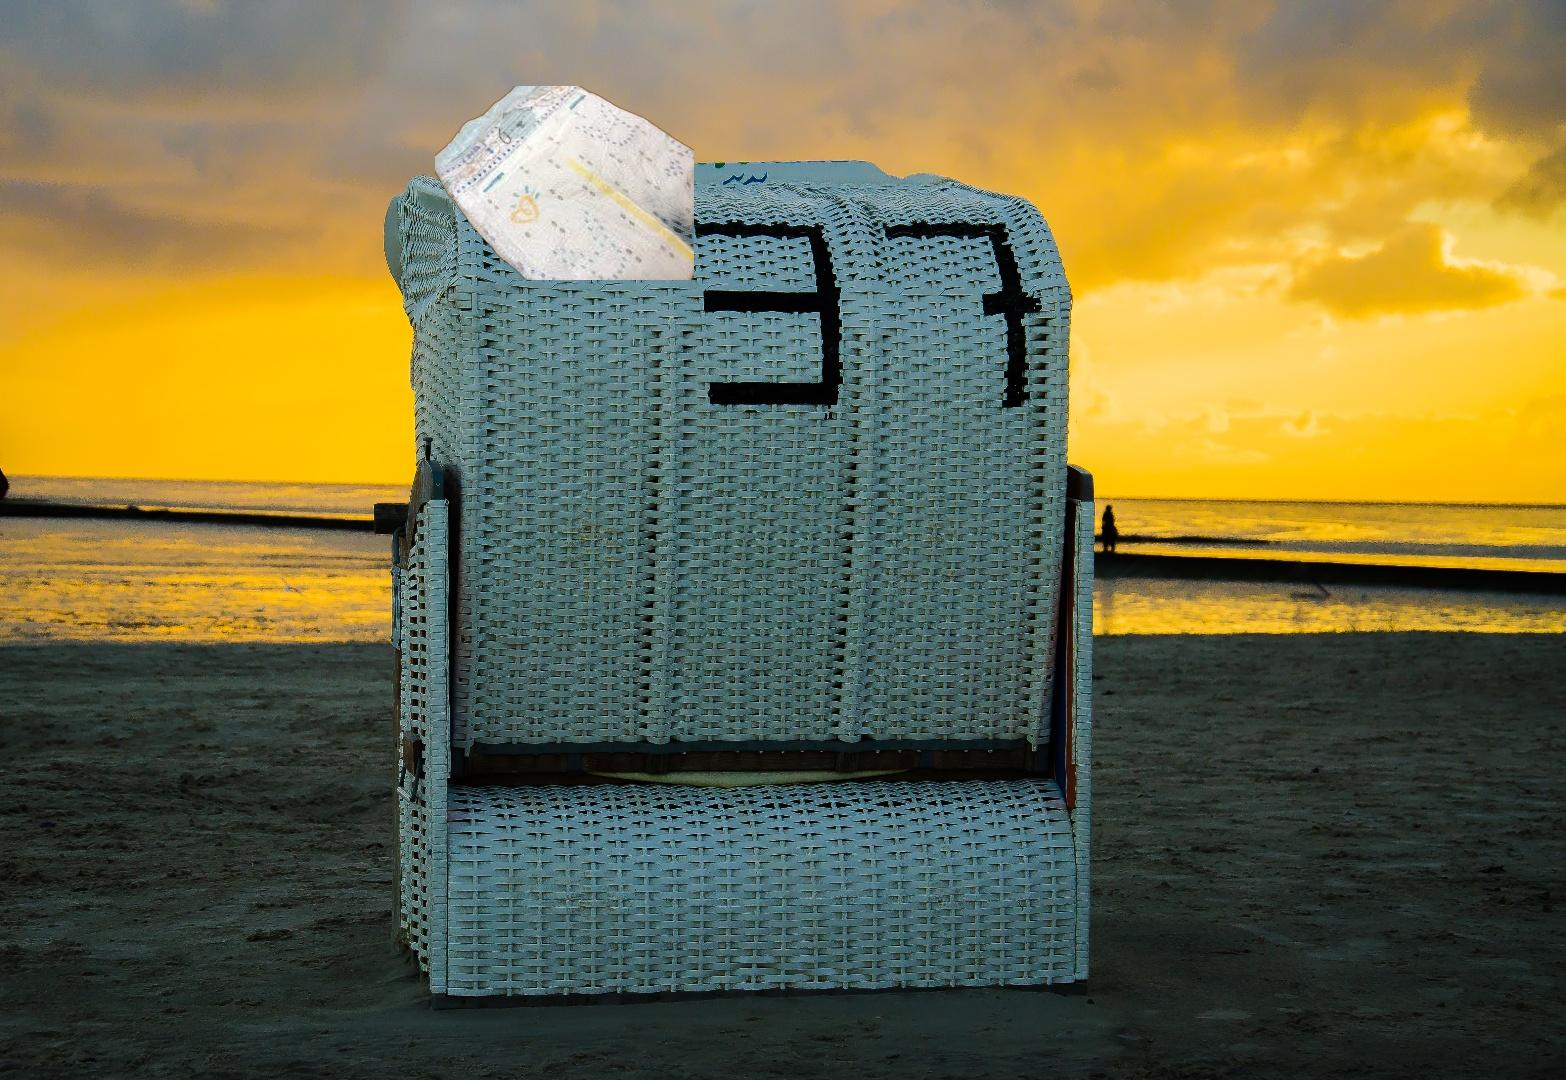trash: (436, 86, 694, 280)
